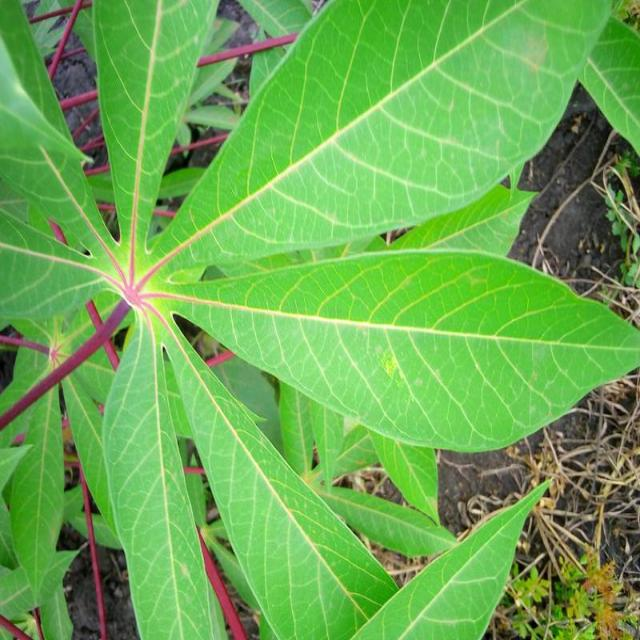cassava leaf: (0, 0, 638, 638), (142, 0, 614, 282), (160, 246, 639, 454), (100, 302, 228, 639)
